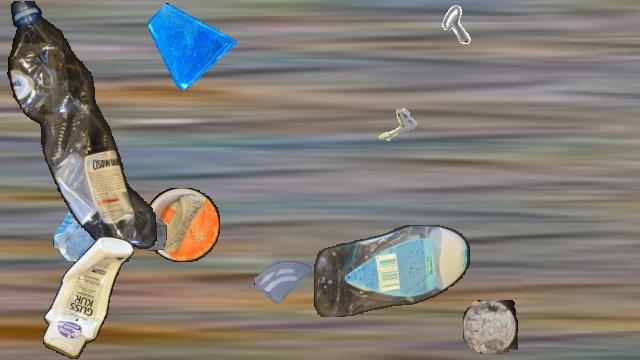glass: (148, 1, 236, 89), (53, 179, 135, 261), (101, 186, 167, 252), (254, 245, 316, 307)
metal: (410, 1, 472, 63), (361, 99, 421, 159)
plastic: (5, 1, 161, 261), (314, 225, 470, 317), (43, 237, 133, 359), (145, 188, 219, 262)
wood: (463, 300, 517, 354)
